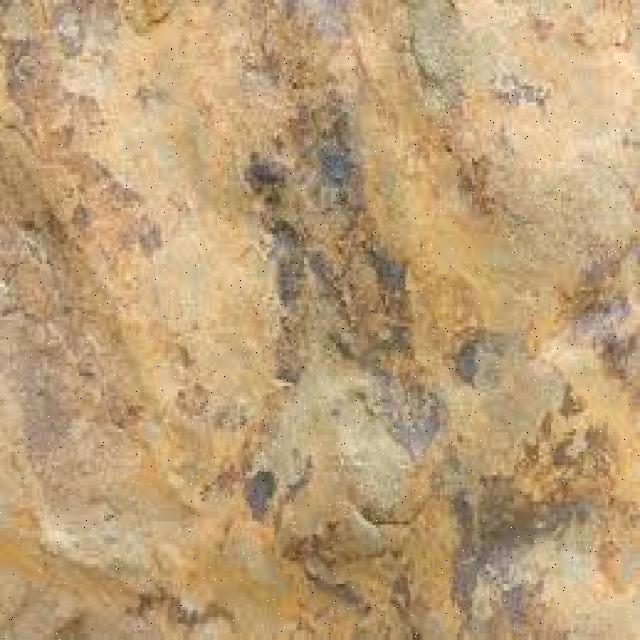Metamorphic: (2, 4, 638, 634)
